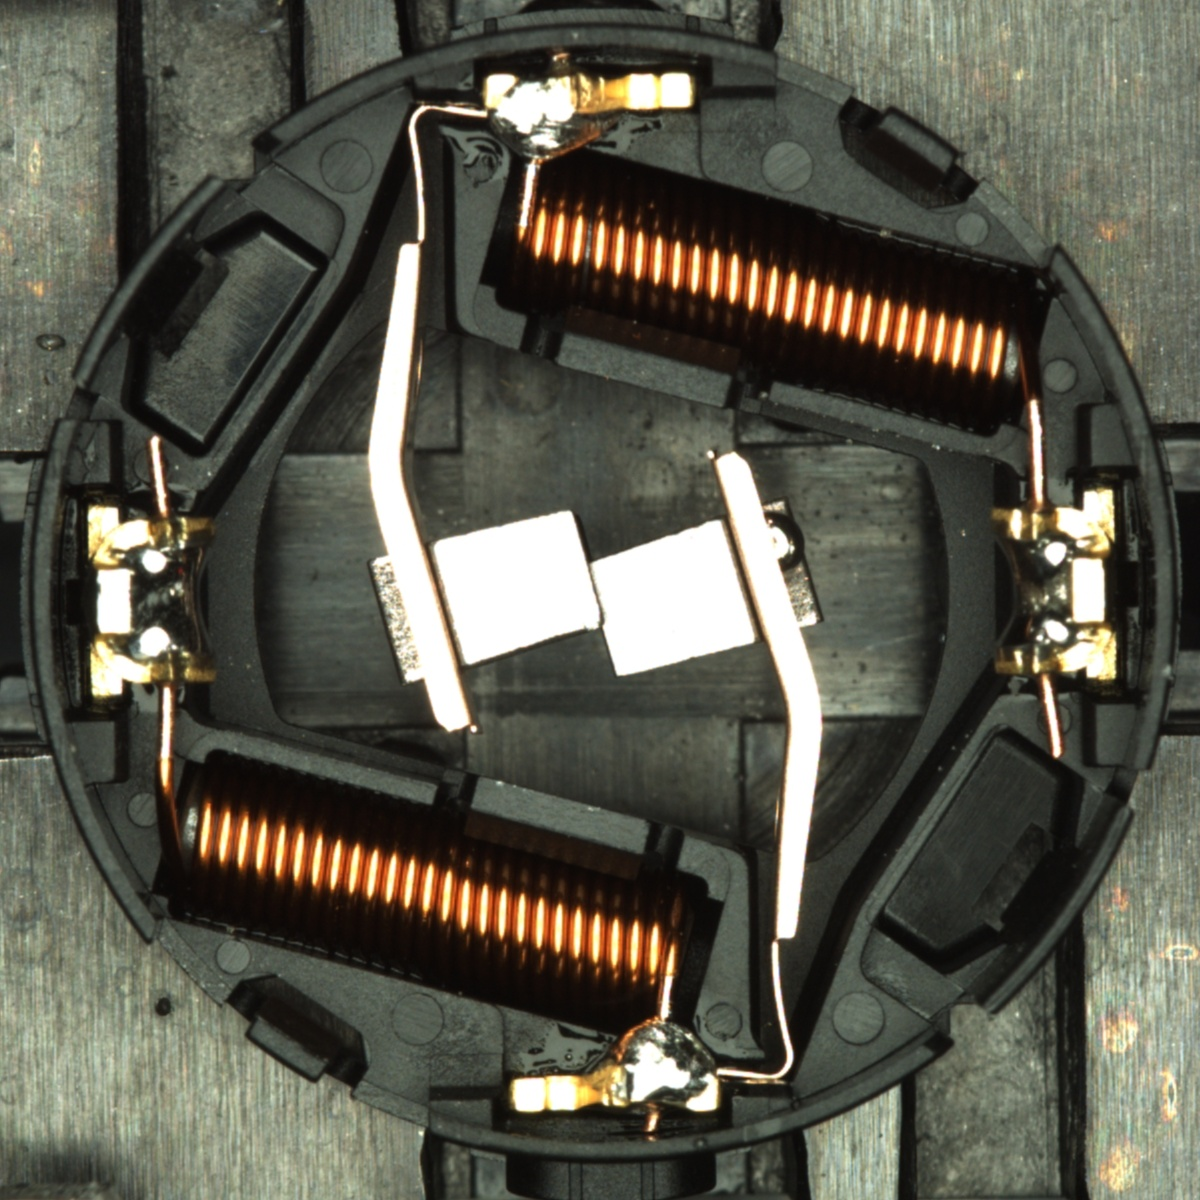1: (258, 55, 487, 279), (716, 953, 945, 1177)
2: (716, 55, 945, 279), (258, 953, 487, 1177)
3: (29, 279, 258, 503), (945, 729, 1175, 953)
4: (258, 279, 487, 503), (716, 729, 945, 953)
5: (487, 167, 716, 391), (487, 841, 716, 1065)
6: (716, 279, 945, 503), (258, 729, 487, 953)
7: (945, 279, 1175, 503), (29, 729, 258, 953)
chau_dien: (80, 499, 221, 702), (984, 488, 1124, 687)
hat_chi: (762, 512, 805, 571)
tay_choi: (481, 68, 699, 168), (509, 1014, 722, 1115)
thanh_de: (954, 787, 1141, 1030), (59, 163, 244, 403)
